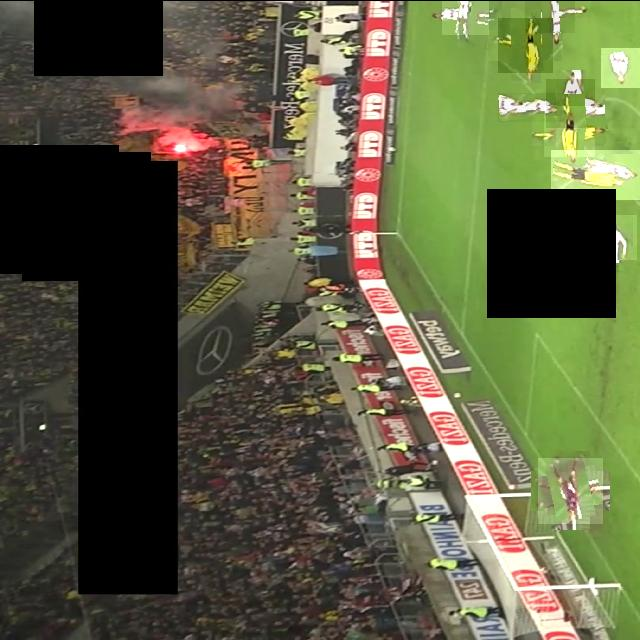goalkeeper: (538, 457, 603, 523)
soccer-player: (551, 149, 640, 199), (498, 17, 553, 72), (544, 105, 595, 156), (546, 78, 595, 127), (592, 214, 638, 259), (498, 92, 562, 121), (525, 0, 575, 32), (442, 0, 489, 34), (601, 47, 640, 87)
